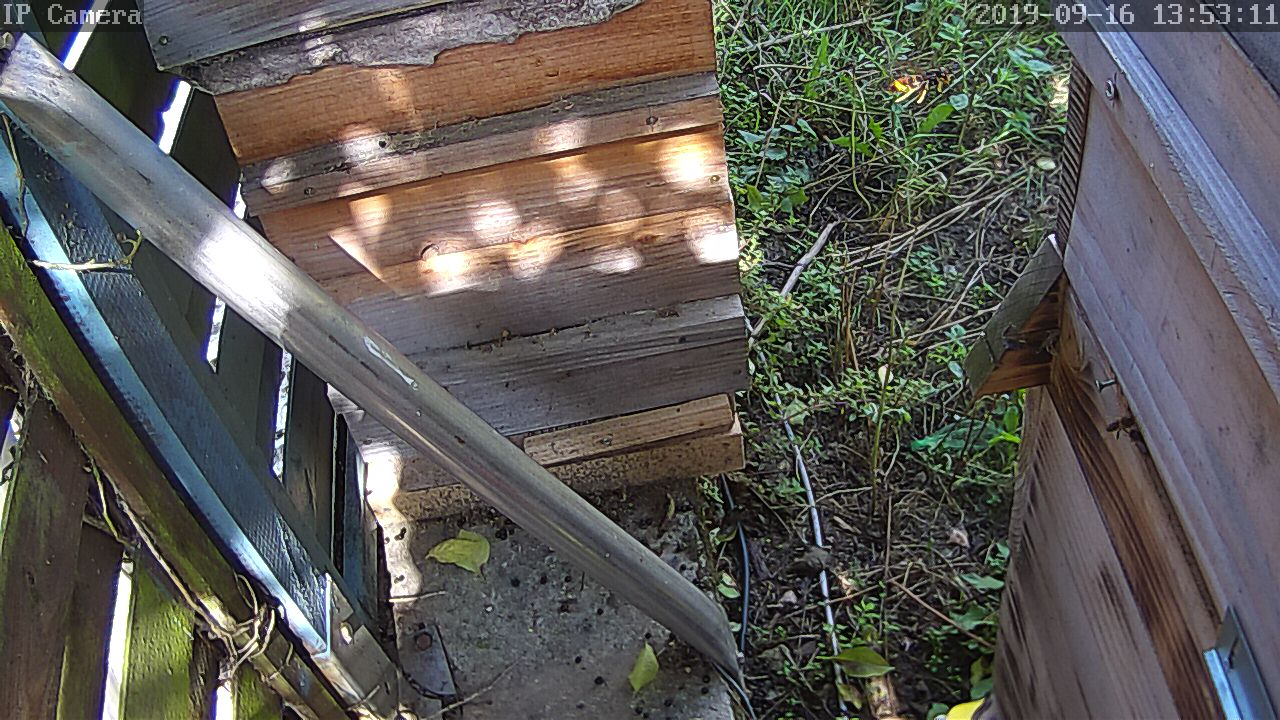bee: (1104, 413, 1141, 437)
hornet: (891, 60, 955, 104)
